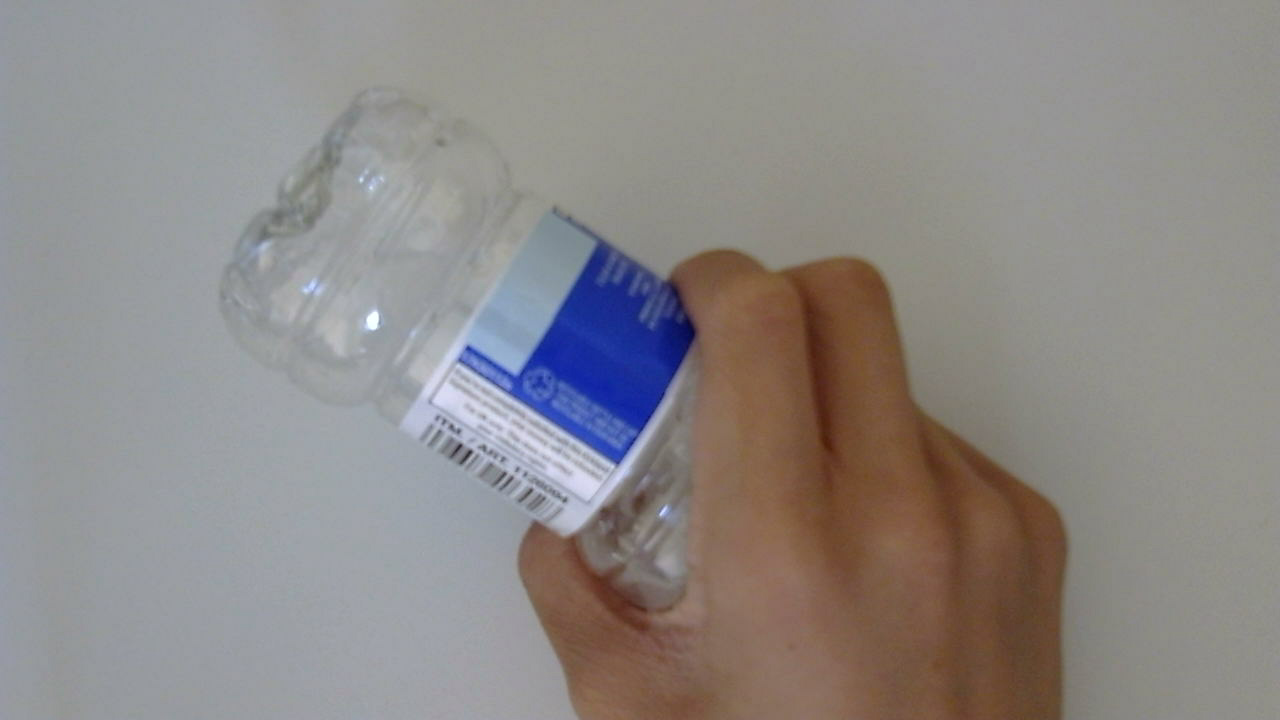Plastic Bottle: (214, 78, 707, 621)
